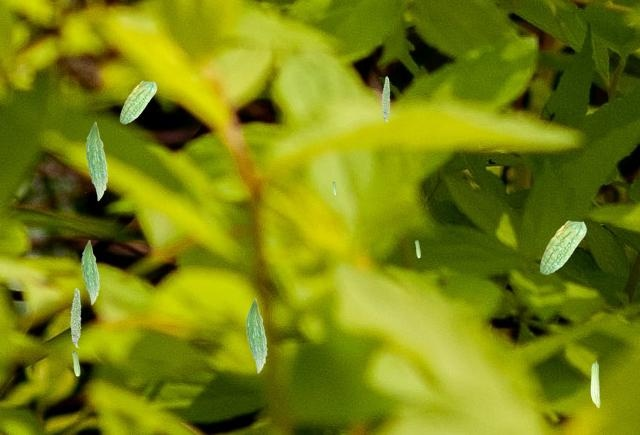ampalaya: (539, 220, 587, 275), (85, 121, 108, 201), (119, 80, 157, 124), (245, 298, 267, 374), (81, 239, 100, 305), (69, 287, 81, 348), (590, 360, 600, 408), (381, 75, 390, 122), (71, 350, 80, 376), (414, 239, 421, 258), (332, 181, 337, 195)
